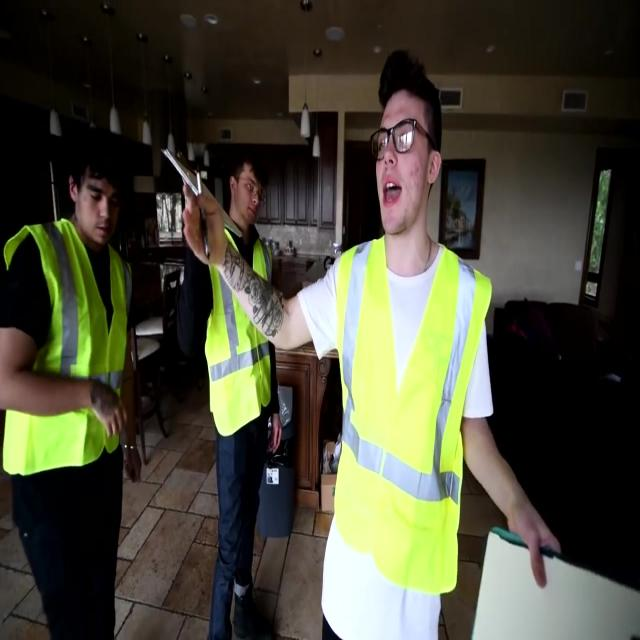Reflective-Jacket: (328, 235, 492, 600), (0, 214, 142, 483), (201, 223, 277, 442)
